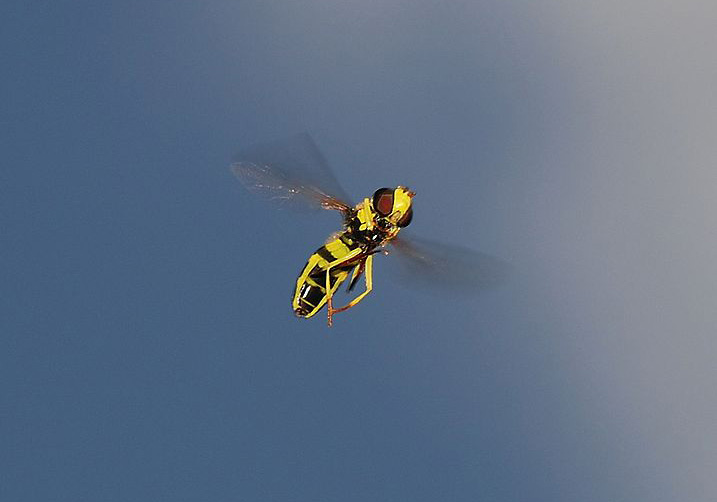insect: (228, 142, 425, 325)
